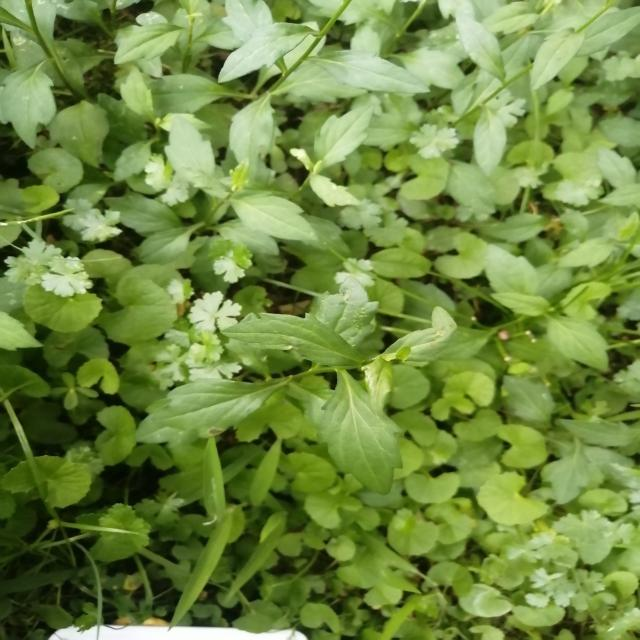Indian aster: (148, 304, 422, 487), (148, 103, 354, 261)
